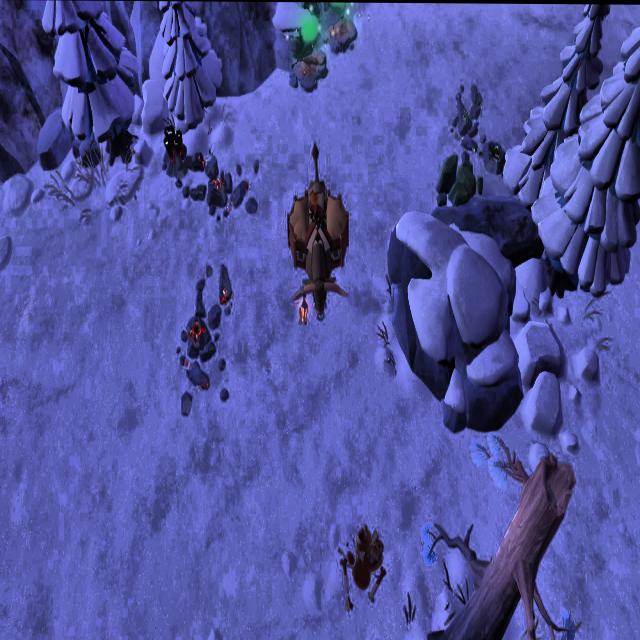ore_t5: (163, 122, 183, 160)
rock_t3: (429, 153, 482, 216)
